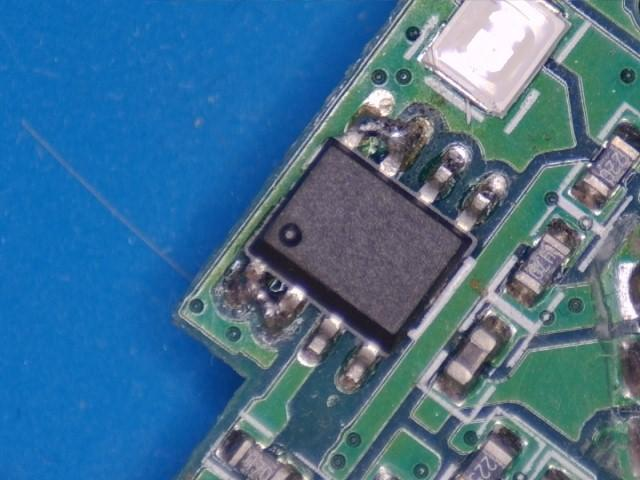Short_circuit: (340, 91, 431, 181), (228, 256, 307, 330)
